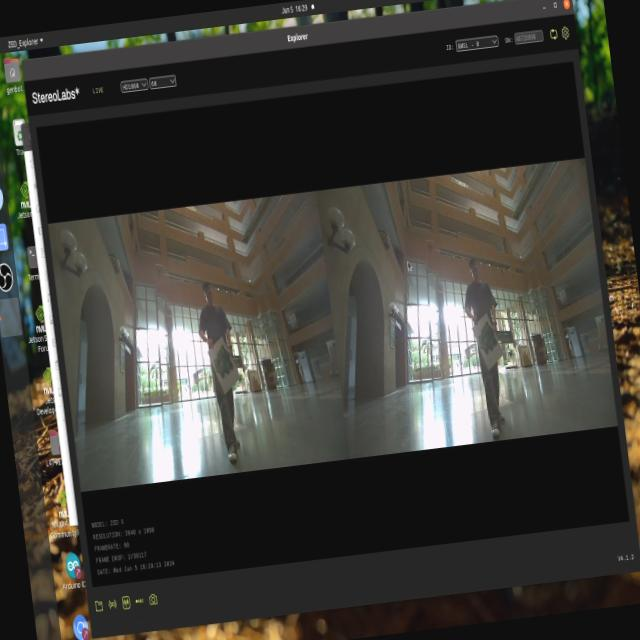green: (473, 318, 505, 362), (212, 338, 240, 381)
